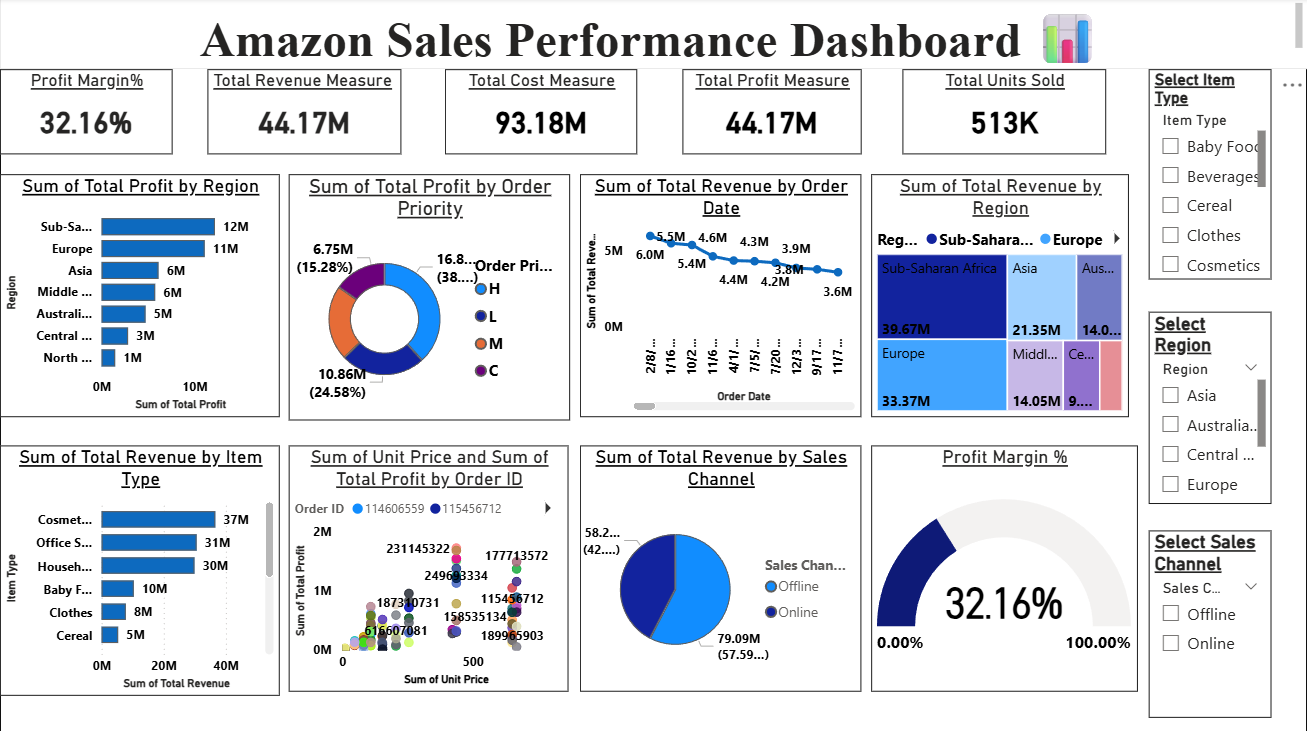

What the dashboard file says about the page in this screenshot:
{"tool":"powerbi","page":{"name":"Page 1","canvas":[1280,720],"ordinal":0},"visuals":[{"type":"pieChart","fields":{"Category":["Amazon Sales data.Sales Channel"],"Y":["Sum(Amazon Sales data.Total Revenue)"]},"box":[567.4,437.8,275.1,240.9],"z":0},{"type":"clusteredBarChart","fields":{"Y":["Sum(Amazon Sales data.Total Revenue)"],"Category":["Amazon Sales data.Item Type"]},"box":[0,437.8,273.9,244.6],"z":1000},{"type":"lineChart","fields":{"Category":["Amazon Sales data.Order Date"],"Y":["Sum(Amazon Sales data.Total Revenue)"]},"box":[567.4,172.4,275.1,237.2],"z":2000},{"type":"clusteredBarChart","fields":{"Category":["Amazon Sales data.Region"],"Y":["Sum(Amazon Sales data.Total Profit)"]},"box":[0,172.4,273.9,237.2],"z":3000},{"type":"donutChart","fields":{"Category":["Amazon Sales data.Order Priority"],"Y":["Sum(Amazon Sales data.Total Profit)"]},"box":[282.5,172.4,275.1,240.9],"z":4000},{"type":"scatterChart","fields":{"X":["Sum(Amazon Sales data.Unit Price)"],"Y":["Sum(Amazon Sales data.Total Profit)"],"Series":["Amazon Sales data.Order ID"]},"box":[282.5,437.8,273.9,240.9],"z":4001},{"type":"treemap","fields":{"Group":["Amazon Sales data.Region"],"Values":["Sum(Amazon Sales data.Total Revenue)"]},"box":[852.3,172.4,251.9,237.2],"z":4002},{"type":"gauge","fields":{"Y":["Amazon Sales data.Profit Margin %"]},"box":[852.3,437.8,260.5,240.9],"z":4003},{"type":"textbox","box":[0,0,1280.3,69.7],"z":4004},{"type":"slicer","title":"Select Region","fields":{"Values":["Amazon Sales data.Region"]},"box":[1123.8,306.9,119.8,188.3],"z":4005},{"type":"slicer","title":"Select Item Type","fields":{"Values":["Amazon Sales data.Item Type"]},"box":[1123.8,69.7,119.8,205.4],"z":4006},{"type":"slicer","title":"Select Sales Channel","fields":{"Values":["Amazon Sales data.Sales Channel"]},"box":[1123.8,520.9,119.8,183.4],"z":4007},{"type":"card","title":"Total Revenue Measure","fields":{"Values":["Amazon Sales data.Total Profit Measure"]},"box":[203,69.7,189.5,83.2],"z":4008},{"type":"card","title":"Total Cost Measure","fields":{"Values":["Amazon Sales data.Total Cost Measure"]},"box":[435.3,69.7,188.3,83.2],"z":4009},{"type":"card","title":"Total Profit Measure","fields":{"Values":["Amazon Sales data.Total Profit Measure"]},"box":[667.7,69.7,174.9,83.2],"z":4010},{"type":"card","title":"Total Units Sold","fields":{"Values":["Amazon Sales data.Total Units Sold"]},"box":[882.9,69.7,199.3,83.2],"z":4011},{"type":"card","title":"Profit Margin%","fields":{"Values":["Amazon Sales data.Profit Margin %"]},"box":[0,69.7,168.8,83.2],"z":4012}]}

Visuals, with their boxes in screenshot pixels (x1, y1, x2, y2), scaled from the page's 1280x720 canvas onto the 1307x731 screenshot:
pieChart - Amazon Sales data.Sales Channel x Sum(Amazon Sales data.Total Revenue): <region>579, 444, 860, 689</region>
clusteredBarChart - Sum(Amazon Sales data.Total Revenue) x Amazon Sales data.Item Type: <region>0, 444, 280, 693</region>
lineChart - Amazon Sales data.Order Date x Sum(Amazon Sales data.Total Revenue): <region>579, 175, 860, 416</region>
clusteredBarChart - Amazon Sales data.Region x Sum(Amazon Sales data.Total Profit): <region>0, 175, 280, 416</region>
donutChart - Amazon Sales data.Order Priority x Sum(Amazon Sales data.Total Profit): <region>288, 175, 569, 420</region>
scatterChart - Sum(Amazon Sales data.Unit Price) x Sum(Amazon Sales data.Total Profit): <region>288, 444, 568, 689</region>
treemap - Amazon Sales data.Region x Sum(Amazon Sales data.Total Revenue): <region>870, 175, 1127, 416</region>
gauge - Amazon Sales data.Profit Margin %: <region>870, 444, 1136, 689</region>
textbox: <region>0, 0, 1306, 71</region>
"Select Region" slicer: <region>1148, 312, 1270, 503</region>
"Select Item Type" slicer: <region>1148, 71, 1270, 279</region>
"Select Sales Channel" slicer: <region>1148, 529, 1270, 715</region>
"Total Revenue Measure" card: <region>207, 71, 401, 155</region>
"Total Cost Measure" card: <region>444, 71, 637, 155</region>
"Total Profit Measure" card: <region>682, 71, 860, 155</region>
"Total Units Sold" card: <region>902, 71, 1105, 155</region>
"Profit Margin%" card: <region>0, 71, 172, 155</region>
